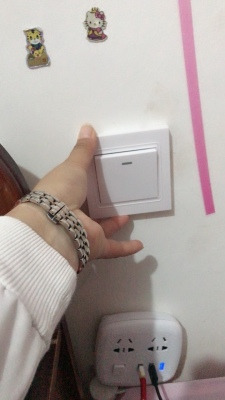switch: (89, 144, 162, 212)
